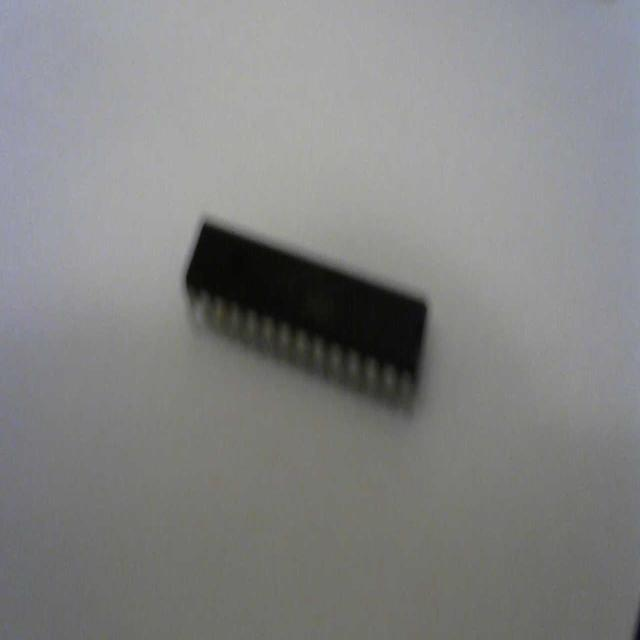atmega: (182, 212, 430, 418)
